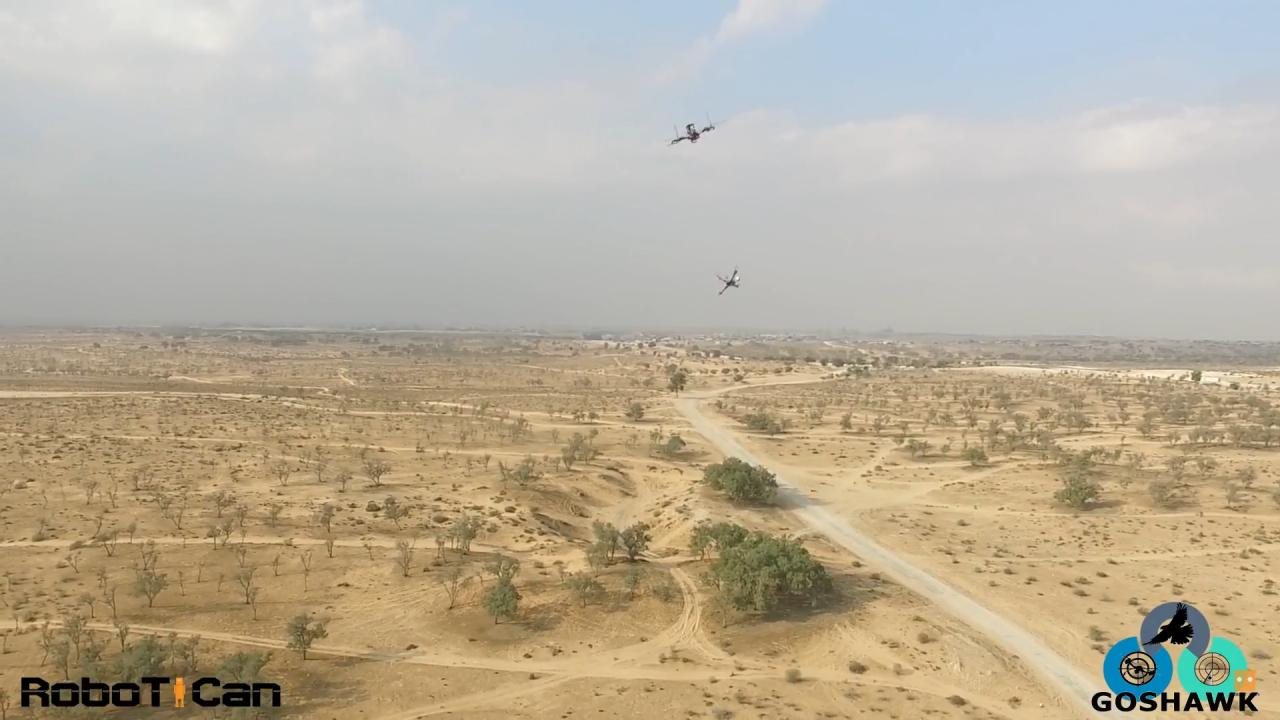Drone: (654, 115, 723, 151), (708, 264, 748, 300)
